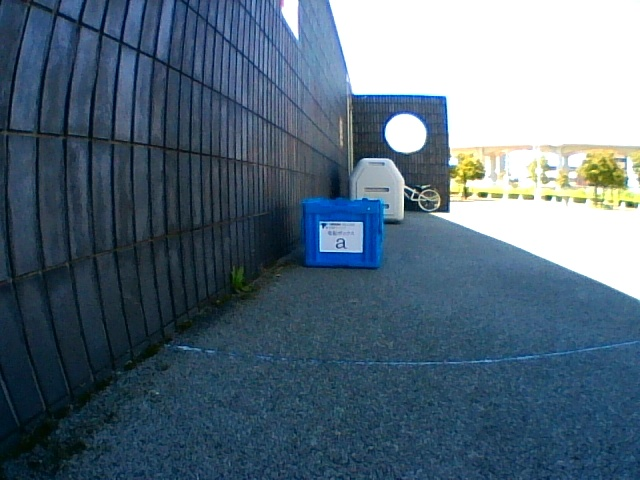blue_box: (302, 198, 383, 268)
tag_a: (321, 222, 361, 251)
